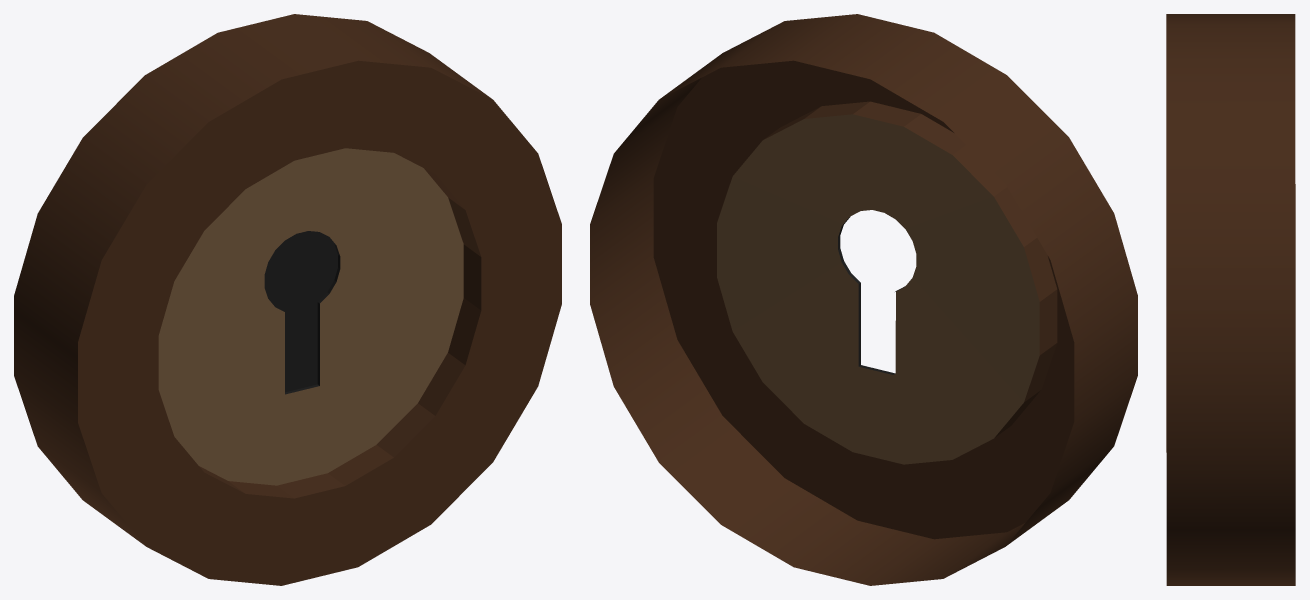
File: door_lock.fbx
3 views of the same model, side by side, from view 1: azimuth 30°, elevation 25°; view 2: azimuth 150°, elevation 25°; view 3: azimuth 270°, elevation 25° (orthographic).
Visible parts, largest first — view 1: lock; view 2: lock; view 3: lock.
Part boxes in pixels (bbox=[...]): lock: bbox=[14, 14, 561, 585]; lock: bbox=[590, 14, 1137, 585]; lock: bbox=[1166, 14, 1295, 585].
Size of the model in its own units: 41.89 by 41.88 by 9.6.
